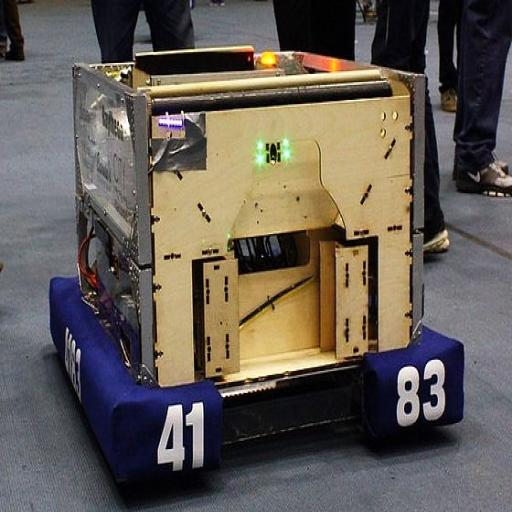robot: (47, 58, 466, 490)
